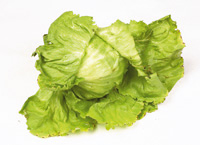cabbage: (19, 9, 184, 138)
